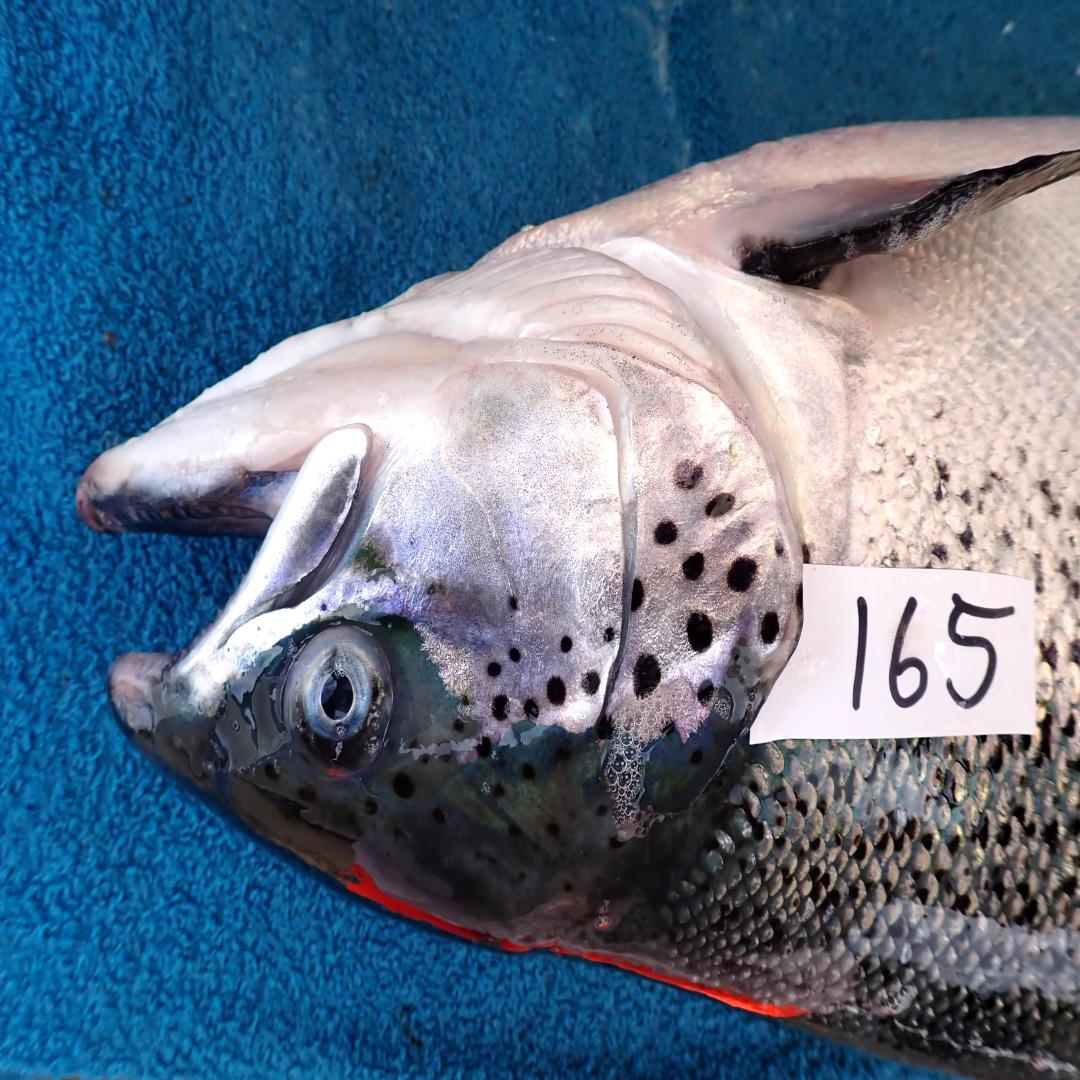roi: (371, 241, 807, 744)
